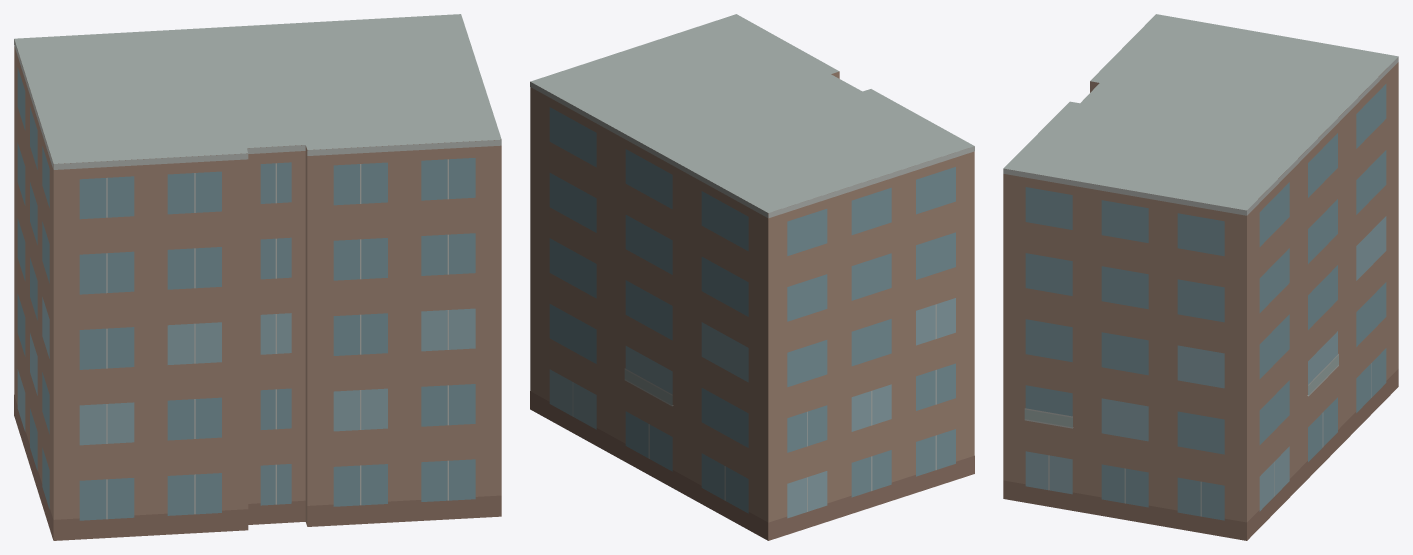
Rendered from survey-upis-32868215.glb.
3 renders of one model, left to right at view 1: azimuth 30°, elevation 25°; view 2: azimuth 150°, elevation 25°; view 3: azimuth 270°, elevation 25°, orthographic. The views are drawn at different scales.
Parts seen in each view (by area): view 1: survey-upis-32868215.tmp; view 2: survey-upis-32868215.tmp; view 3: survey-upis-32868215.tmp.
Boxes of the visible parts, bbox=[...] form: survey-upis-32868215.tmp: bbox=[14, 14, 501, 540]; survey-upis-32868215.tmp: bbox=[530, 14, 974, 540]; survey-upis-32868215.tmp: bbox=[1003, 14, 1398, 540].
Bounding box in the file's own units: 19.46 × 15.25 × 16.55.
